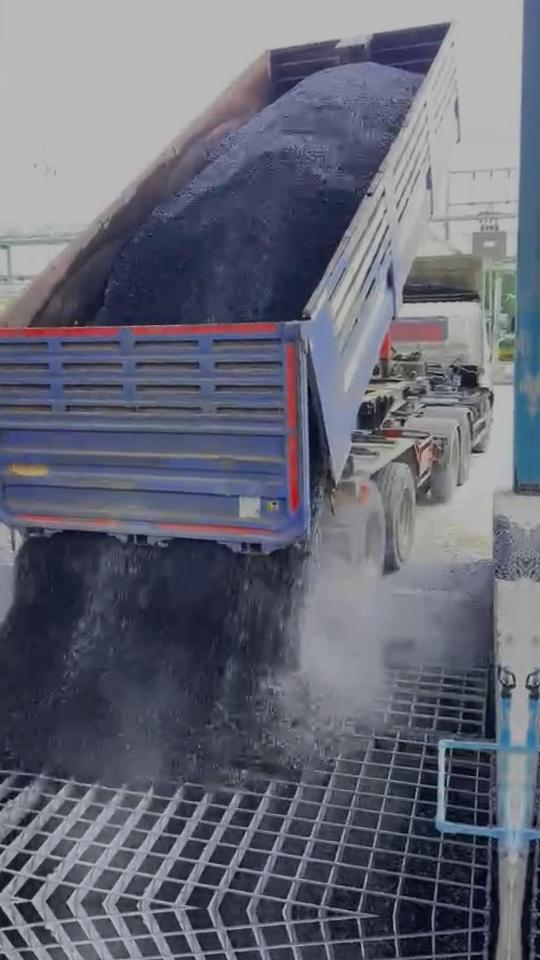gravel: (0, 535, 351, 784), (96, 63, 422, 323), (494, 515, 528, 580)
